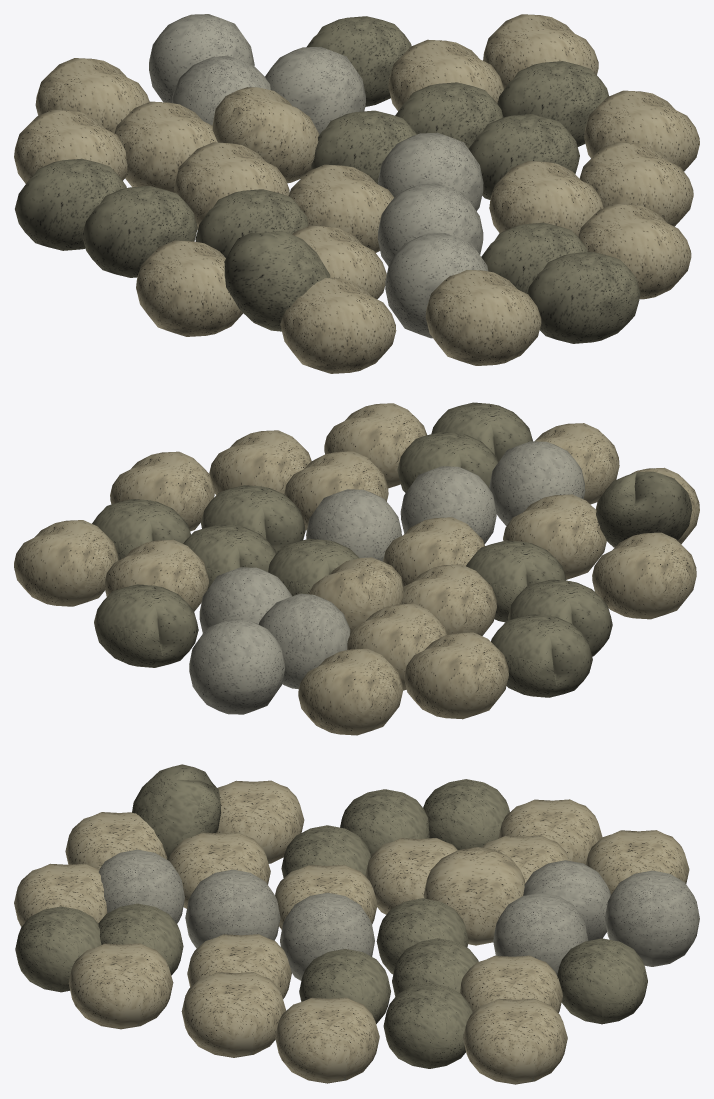
File: B49_Botsala.FBX
3 renders of one model, top to bottom at view 1: azimuth 30°, elevation 25°; view 2: azimuth 150°, elevation 25°; view 3: azimuth 270°, elevation 25°, orthographic. The views are drawn at different scales.
Parts seen in each view (by area): view 1: Botsala014; view 2: Botsala014; view 3: Botsala014.
Part boxes in pixels (box(x1,y1,x2,y2)): Botsala014: box(14, 14, 699, 373); Botsala014: box(14, 402, 699, 735); Botsala014: box(14, 764, 699, 1084).
Size of the model in its own units: 36.75 by 7.08 by 40.35.
Materials: 1 (1 with a texture image).
